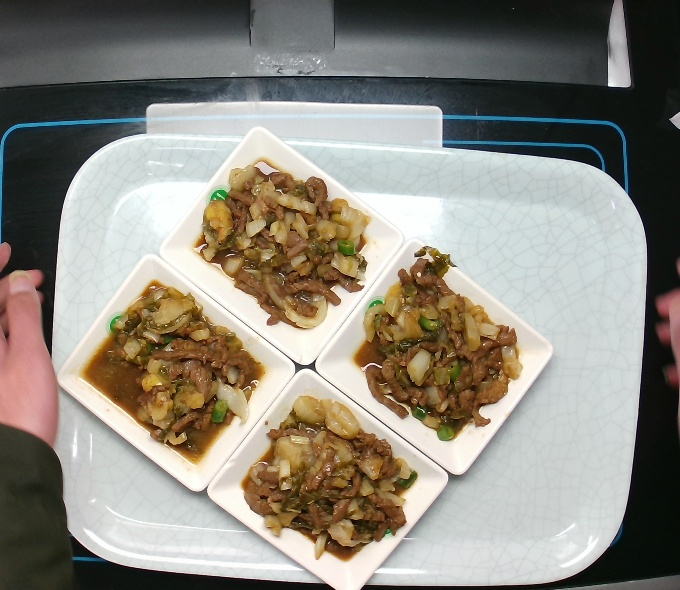wcq-PaoCaiNiuRou: (364, 248, 534, 442), (246, 370, 416, 564), (85, 267, 255, 461), (201, 148, 371, 342)
